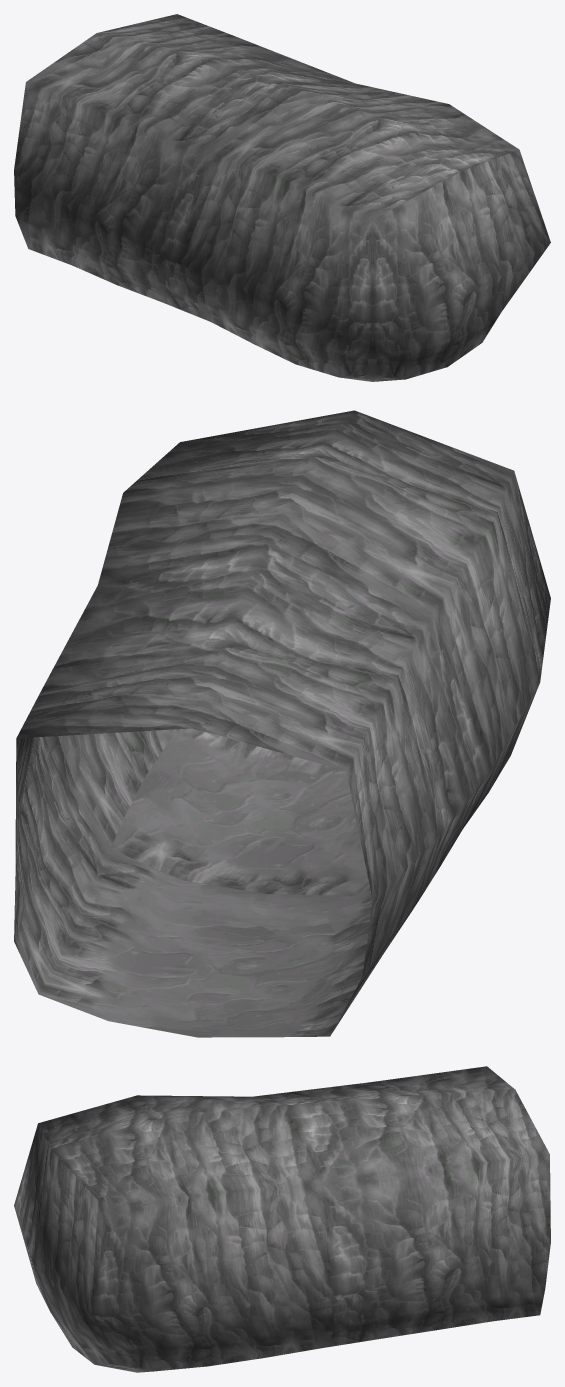
File: SWORDLIGHT20_PS-AREA04_09.fbx
3 renders of one model, top to bottom at view 1: azimuth 30°, elevation 25°; view 2: azimuth 150°, elevation 25°; view 3: azimuth 270°, elevation 25°, orthographic. The views are drawn at different scales.
Visible parts, largest first — view 1: SWORDLIGHT20_PS-AREA04_09; view 2: SWORDLIGHT20_PS-AREA04_09; view 3: SWORDLIGHT20_PS-AREA04_09.
Part boxes in pixels (x1,y1,x2,y2): SWORDLIGHT20_PS-AREA04_09: (14,14,550,381); SWORDLIGHT20_PS-AREA04_09: (14,410,550,1037); SWORDLIGHT20_PS-AREA04_09: (14,1066,550,1372).
Size of the model in its own units: 73256 by 48846 by 102079.
3 materials, 3 textured.
